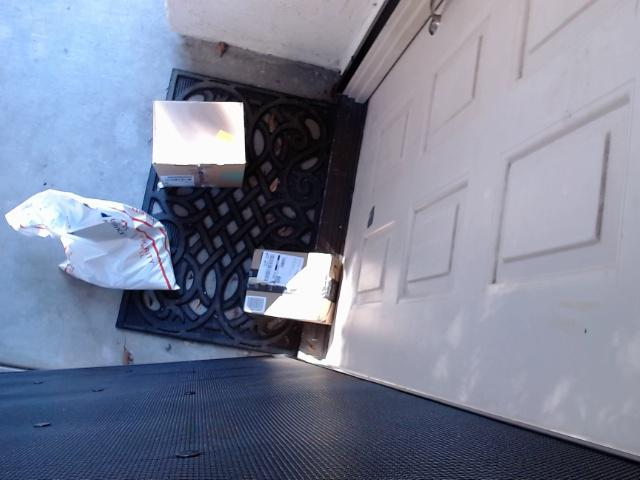box: (129, 90, 293, 190), (232, 233, 365, 342)
plastic_bag: (4, 177, 189, 302)
